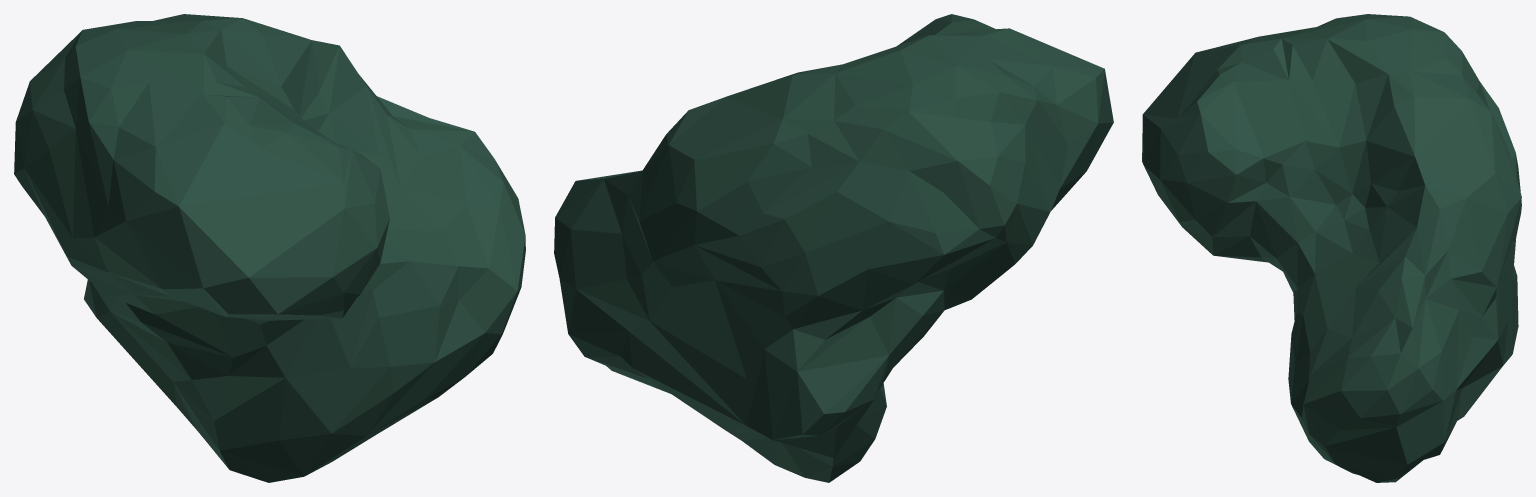
Rendered from SM_large_rock_39.fbx.
3 renders of one model, left to right at view 1: azimuth 30°, elevation 25°; view 2: azimuth 150°, elevation 25°; view 3: azimuth 270°, elevation 25°, orthographic. The views are drawn at different scales.
Visible parts, largest first — view 1: large_rock_39; view 2: large_rock_39; view 3: large_rock_39.
Part boxes in pixels (x1,y1,x2,y2): large_rock_39: (14,14,525,482); large_rock_39: (554,14,1113,482); large_rock_39: (1142,14,1521,482).
Size of the model in its own units: 176 by 161 by 145.
